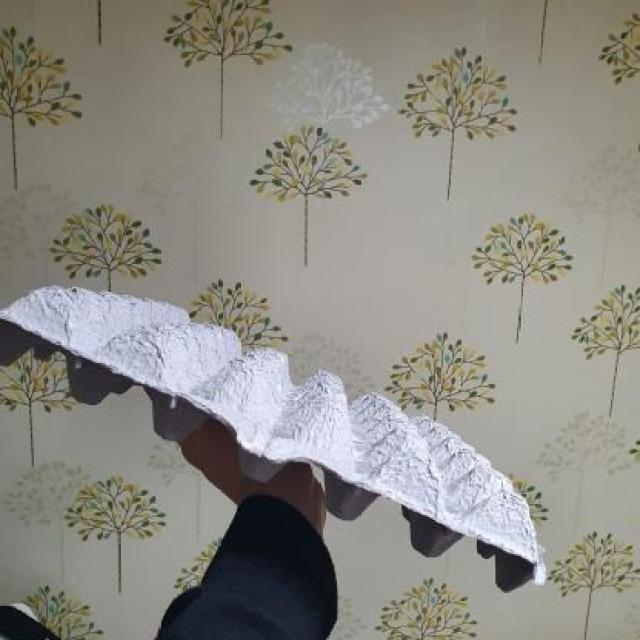box: (0, 232, 620, 614)
